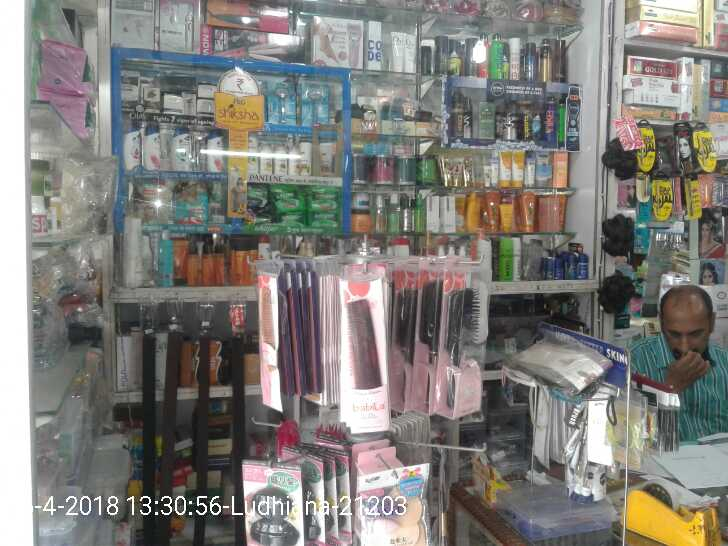venus: (270, 81, 297, 124), (302, 83, 327, 123)
